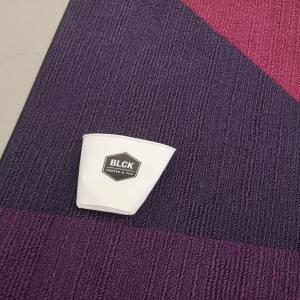Cup: (76, 133, 179, 217)
